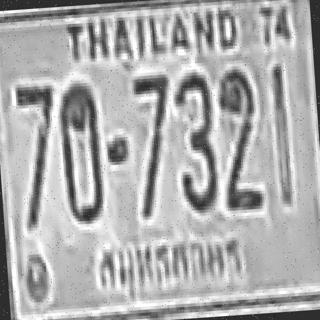N00: (56, 79, 105, 222)
N01: (269, 63, 293, 204)
N02: (215, 64, 261, 209)
N03: (171, 68, 218, 211)
N07: (14, 82, 60, 228), (130, 71, 175, 217), (130, 71, 174, 202), (130, 71, 173, 184), (130, 71, 172, 166)
P58: (91, 226, 245, 302)
